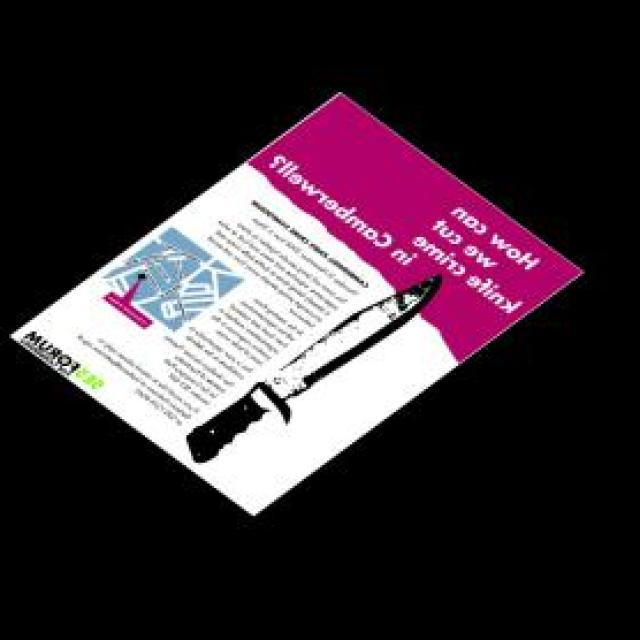knife: (180, 279, 440, 465)
